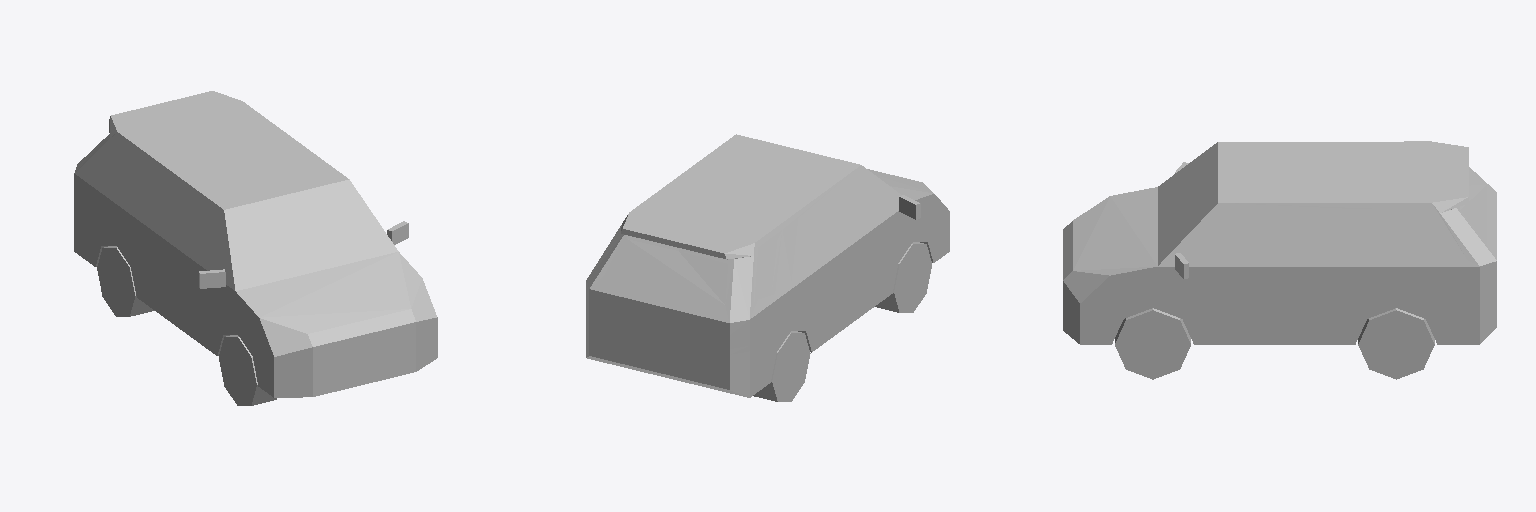
The model's file is suv_yellow.obj.
3 renders of one model, left to right at view 1: azimuth 30°, elevation 25°; view 2: azimuth 150°, elevation 25°; view 3: azimuth 270°, elevation 25°, orthographic.
Visible parts, largest first — view 1: SUV_01_Yellow, Wheel_FR, Wheel_RR; view 2: SUV_01_Yellow, Wheel_FR, Wheel_RR; view 3: SUV_01_Yellow, Wheel_FL, Wheel_RL.
Part boxes in pixels (x1,y1,x2,y2): SUV_01_Yellow: (74, 91, 437, 397); Wheel_FR: (219, 335, 276, 405); Wheel_RR: (97, 246, 154, 316); SUV_01_Yellow: (586, 134, 949, 397); Wheel_FR: (875, 242, 931, 312); Wheel_RR: (753, 331, 810, 401); SUV_01_Yellow: (1063, 141, 1496, 344); Wheel_FL: (1115, 308, 1190, 379); Wheel_RL: (1358, 308, 1434, 379).
Size of the model in its own units: 1.06 by 0.8173 by 1.92.